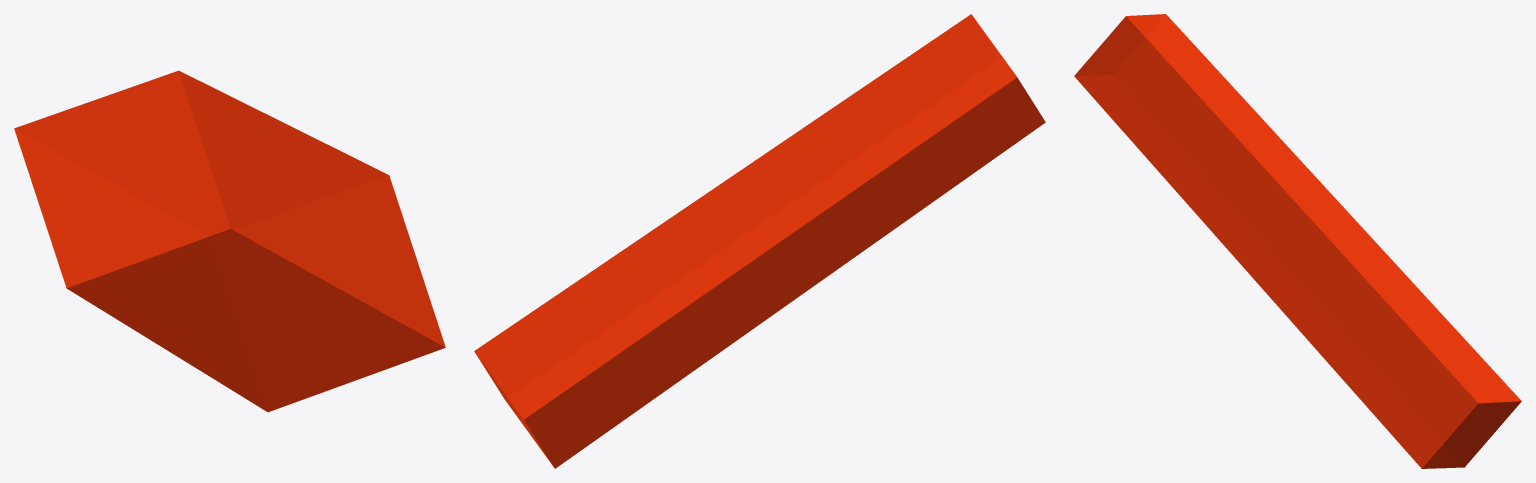
Rendered from Event_421364160_EBrechit_23.fbx.
3 views of the same model, side by side, from view 1: azimuth 30°, elevation 25°; view 2: azimuth 150°, elevation 25°; view 3: azimuth 270°, elevation 25° (orthographic). The views are drawn at different scales.
Parts seen in each view (by area): view 1: Model; view 2: Model; view 3: Model.
Part boxes in pixels (left/top/right/bottom): Model: left=14, top=70, right=445, bottom=412; Model: left=474, top=14, right=1045, bottom=468; Model: left=1074, top=14, right=1521, bottom=468.
Size of the model in its own units: 0.2607 by 0.2514 by 0.294.
